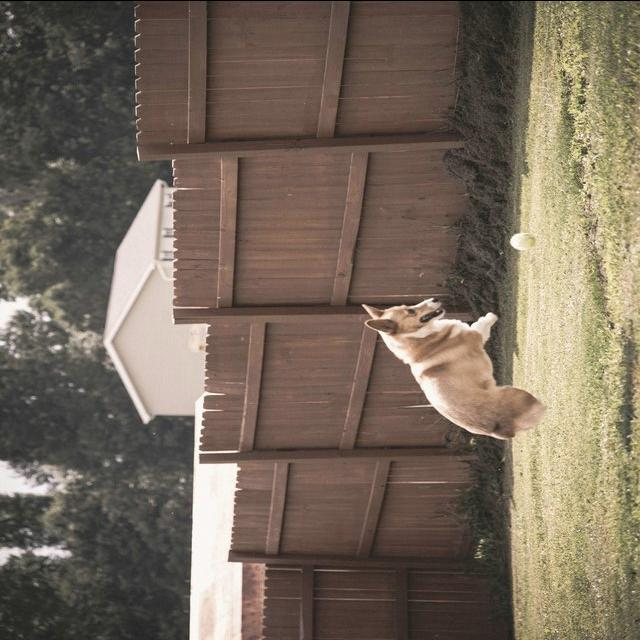corgi: (360, 296, 547, 440)
